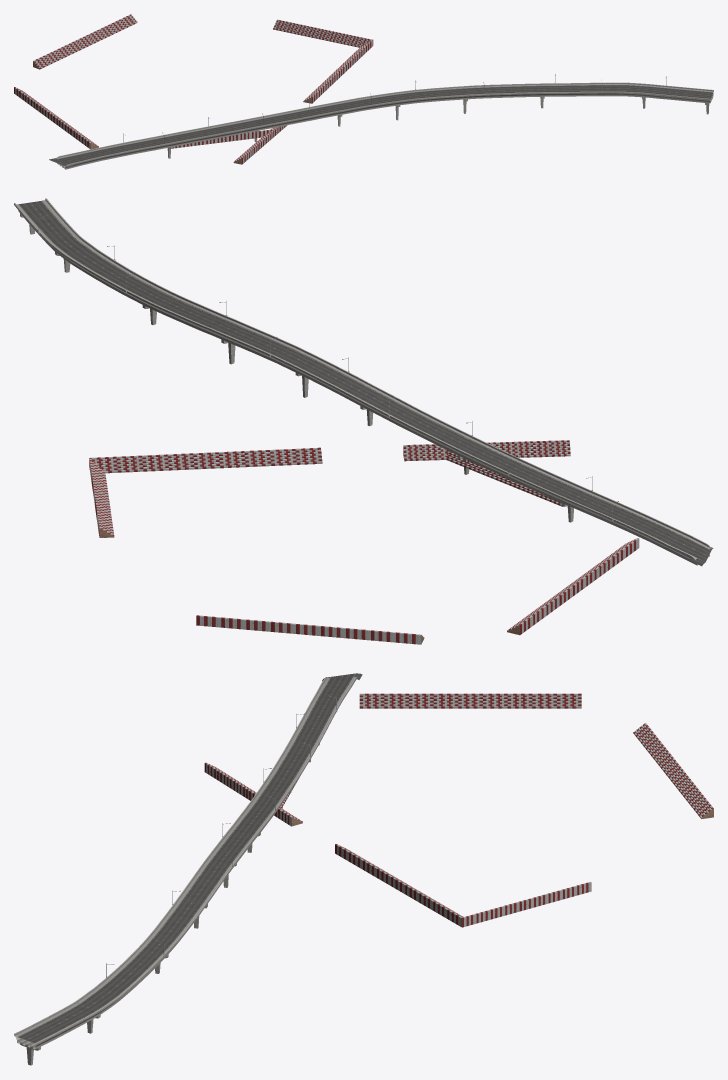
The model's file is Fluover.fbx.
The picture shows the model from 3 angles, top to bottom: view 1: azimuth 30°, elevation 25°; view 2: azimuth 150°, elevation 25°; view 3: azimuth 270°, elevation 25°; orthographic projection. The views are drawn at different scales.
Visible parts, largest first — view 1: Fluover; view 2: Fluover; view 3: Fluover.
Part boxes in pixels (x1=…): Fluover: x1=14, y1=14, x2=713, y2=169; Fluover: x1=14, y1=198, x2=713, y2=644; Fluover: x1=14, y1=673, x2=713, y2=1065.
Bounding box in the file's own units: 251 × 19.14 × 190.
